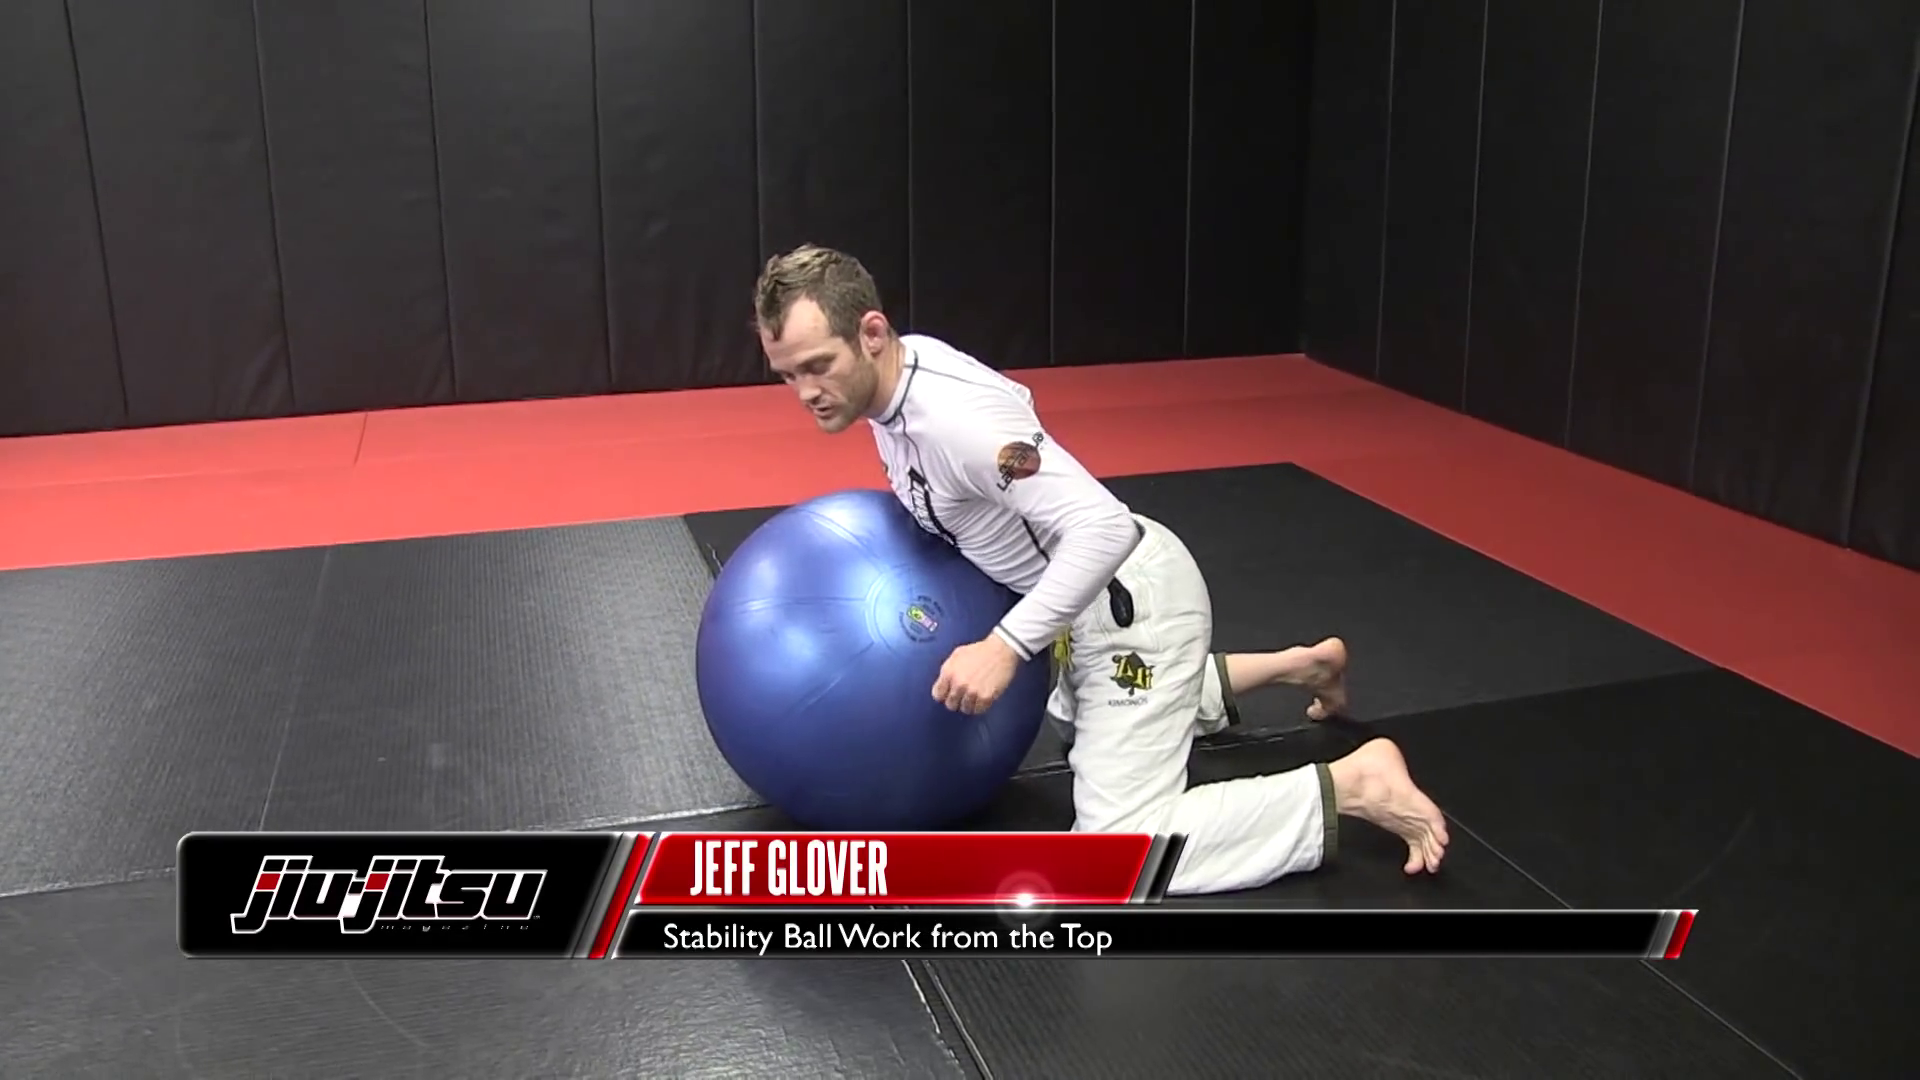yogaball: (670, 476, 1060, 849)
